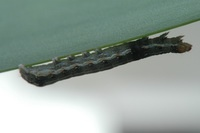insect: (19, 33, 191, 85)
